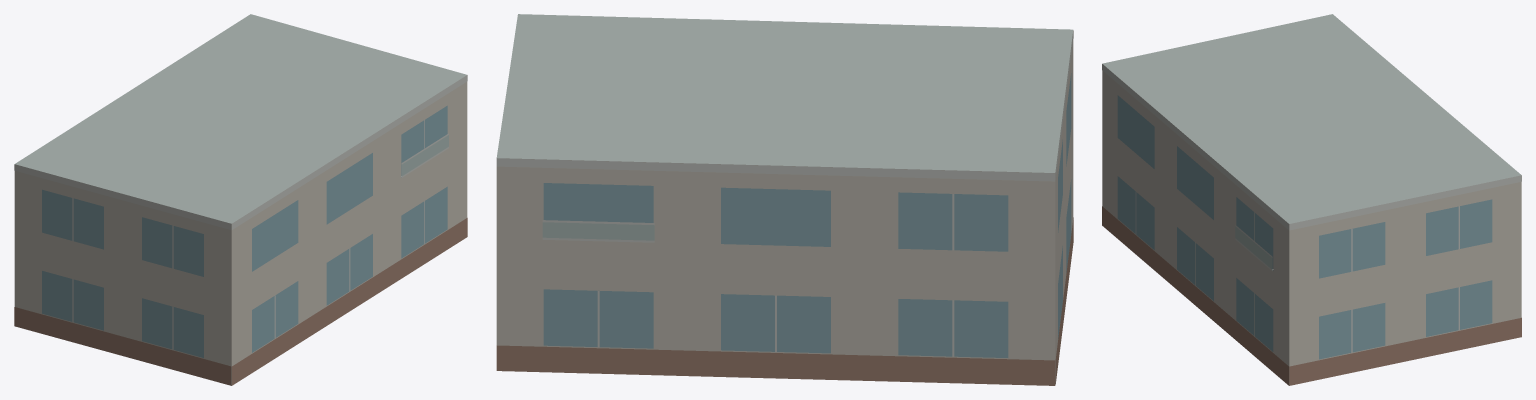
The model's file is survey-upis-33006820.glb.
3 views of the same model, side by side, from view 1: azimuth 30°, elevation 25°; view 2: azimuth 150°, elevation 25°; view 3: azimuth 270°, elevation 25° (orthographic). The views are drawn at different scales.
Parts seen in each view (by area): view 1: survey-upis-33006820.tmp; view 2: survey-upis-33006820.tmp; view 3: survey-upis-33006820.tmp.
Boxes of the visible parts, x1,y1,x2,y2 form: survey-upis-33006820.tmp: [14, 14, 467, 385]; survey-upis-33006820.tmp: [496, 14, 1073, 385]; survey-upis-33006820.tmp: [1102, 14, 1521, 385].
Bounding box in the file's own units: 16.99 × 6.1 × 14.35.
